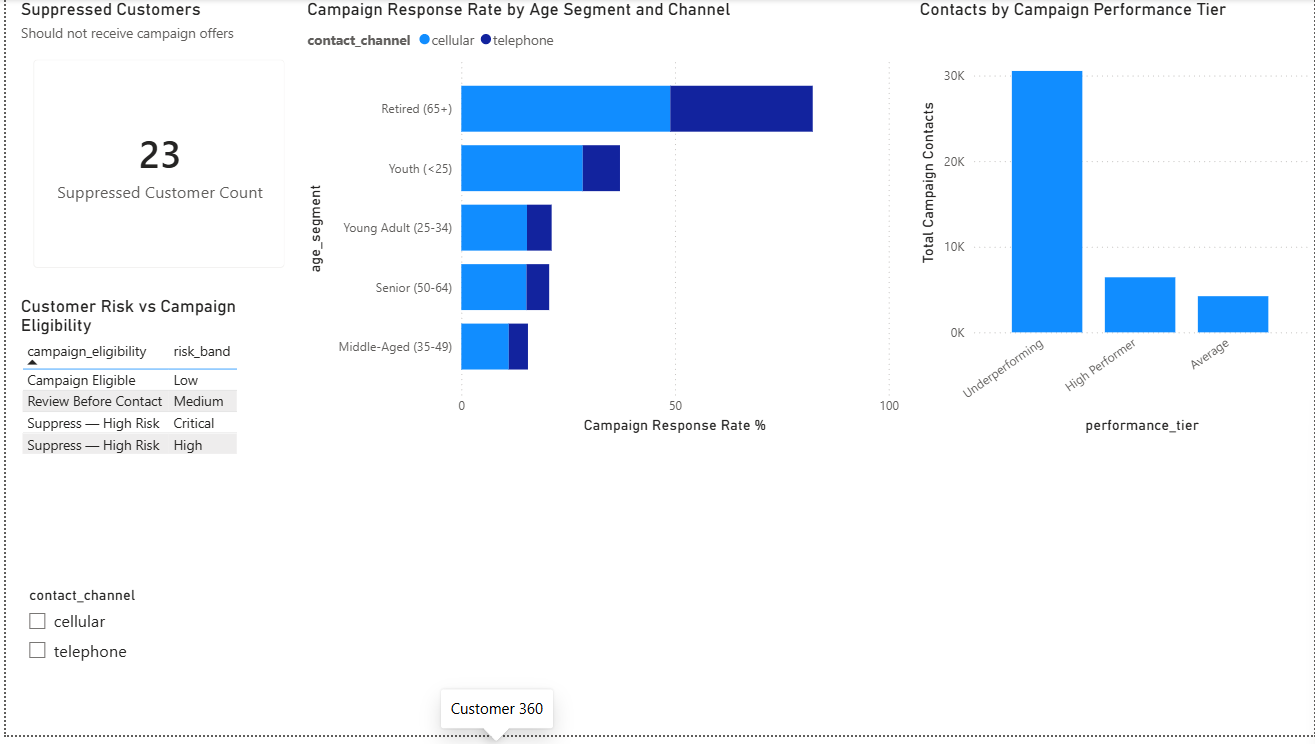

This screenshot's page, from the dashboard's own definition file:
{"tool":"powerbi","page":{"name":"Customer 360","canvas":[1280,720],"ordinal":2},"visuals":[{"type":"cardVisual","title":"Suppressed Customers","fields":{"Data":["mart_customer_360.Suppressed Customer Count"]},"box":[10,0,280,280],"z":0},{"type":"tableEx","title":"Customer Risk vs Campaign Eligibility","fields":{"Values":["mart_customer_360.campaign_eligibility","mart_customer_360.risk_band"]},"box":[10,290,280,280],"z":1000},{"type":"barChart","title":"Campaign Response Rate by Age Segment and Channel","fields":{"Category":["mart_campaign_performance.age_segment"],"Y":["mart_campaign_performance.Campaign Response Rate %"],"Series":["mart_campaign_performance.contact_channel"]},"box":[290.1,0,588.9,430.1],"z":2000},{"type":"clusteredColumnChart","title":"Contacts by Campaign Performance Tier","fields":{"Category":["mart_campaign_performance.performance_tier"],"Y":["mart_campaign_performance.Total Campaign Contacts"]},"box":[888.9,0,391.3,430.1],"z":3000},{"type":"slicer","fields":{"Values":["mart_campaign_performance.contact_channel"]},"box":[10,570,280,150],"z":4000}]}

Visuals, with their boxes in screenshot pixels (x1, y1, x2, y2), scaled from the page's 1280x720 canvas onto the 1315x744 screenshot:
"Suppressed Customers" cardVisual: select_region(10, 0, 298, 289)
"Customer Risk vs Campaign Eligibility" tableEx: select_region(10, 300, 298, 589)
"Campaign Response Rate by Age Segment and Channel" barChart: select_region(298, 0, 903, 444)
"Contacts by Campaign Performance Tier" clusteredColumnChart: select_region(913, 0, 1314, 444)
slicer - mart_campaign_performance.contact_channel: select_region(10, 589, 298, 743)
